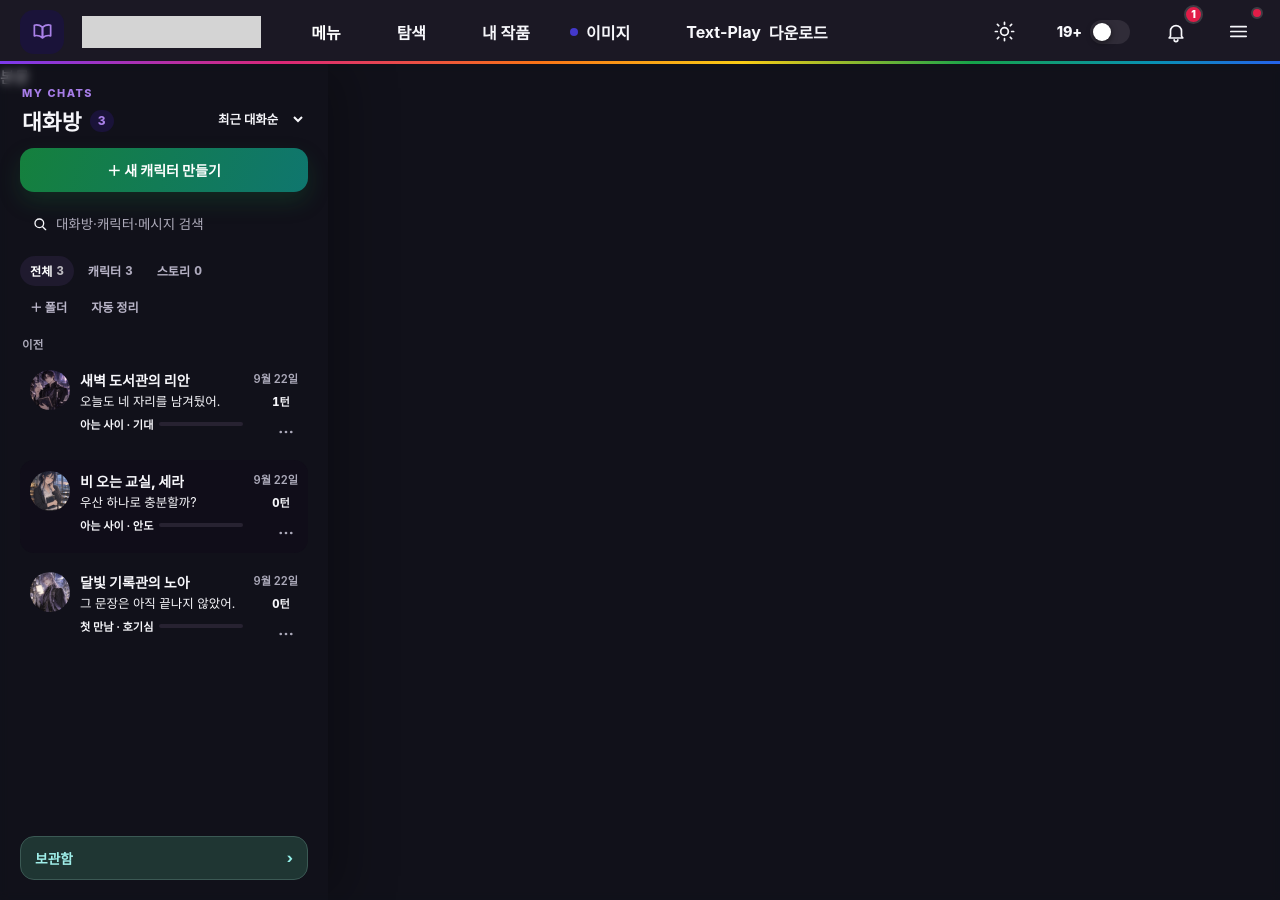
Test: 헤더 알림함 › 모두 읽음과 비우기를 지원하고 빈 알림함을 안내한다
What coordinates should you click on to do the following:
click the button named "알림함, 안 읽은 알림 1개"
I would click on:
 (1176, 32)
Its box is [1154,10,1198,54].
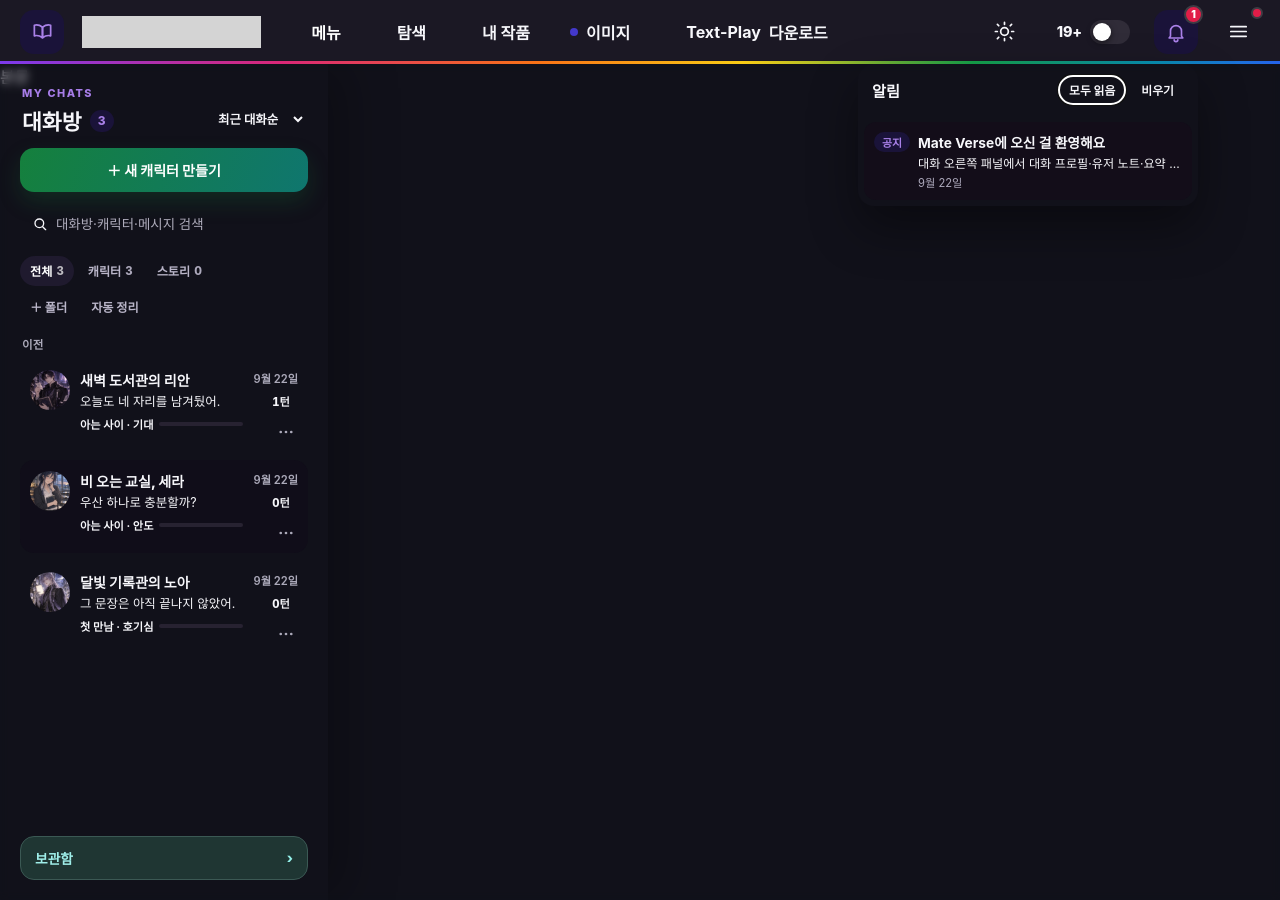
What coordinates should you click on to do the following:
click the button "모두 읽음"
I would click on:
 (1092, 90)
Its box is [1059,76,1125,104].
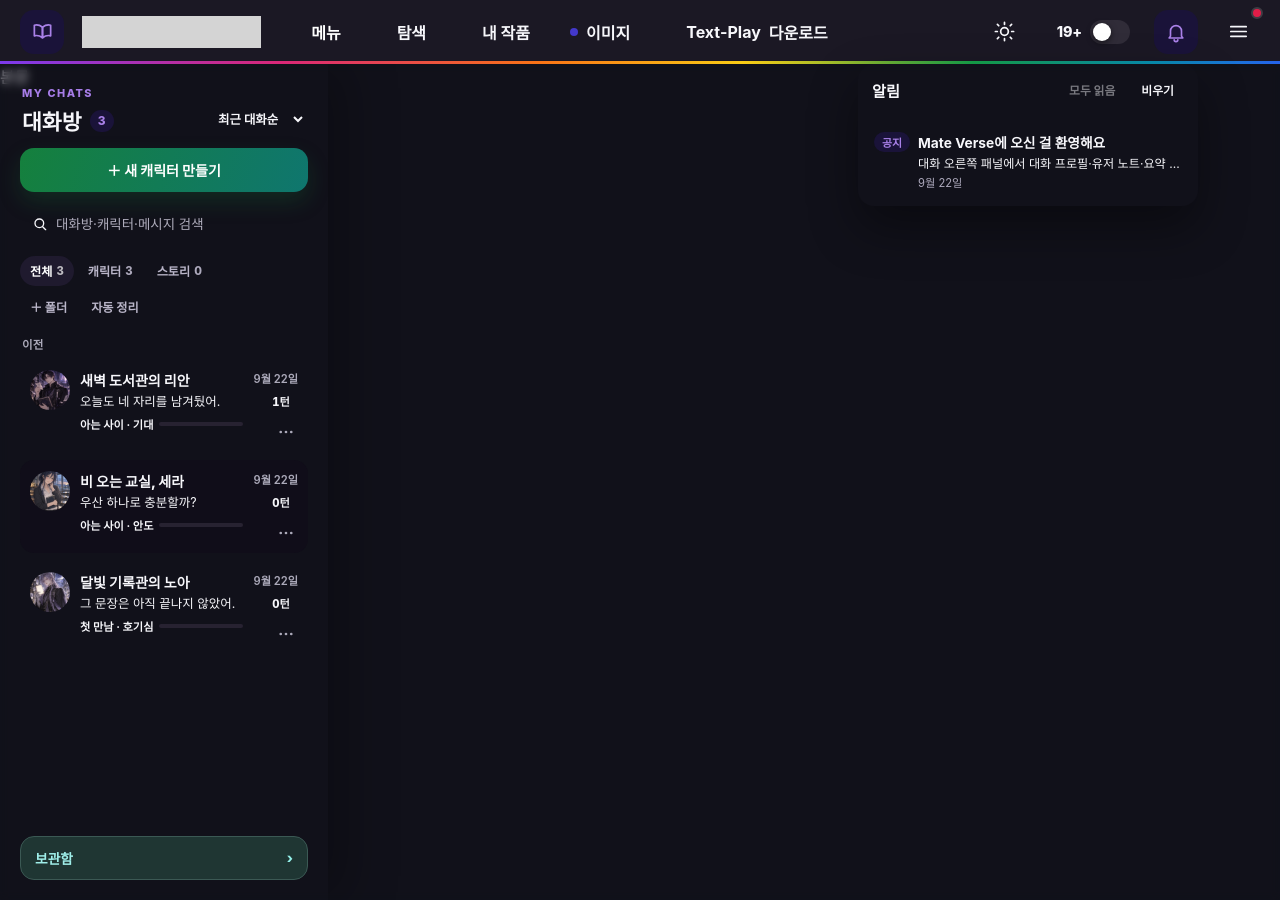
Expected: the button named "알림함" is shown, [1154,10,1198,54]
What coordinates should you click on to do the following:
click the button "비우기"
I would click on:
 (1158, 90)
Its box is [1131,76,1184,104].
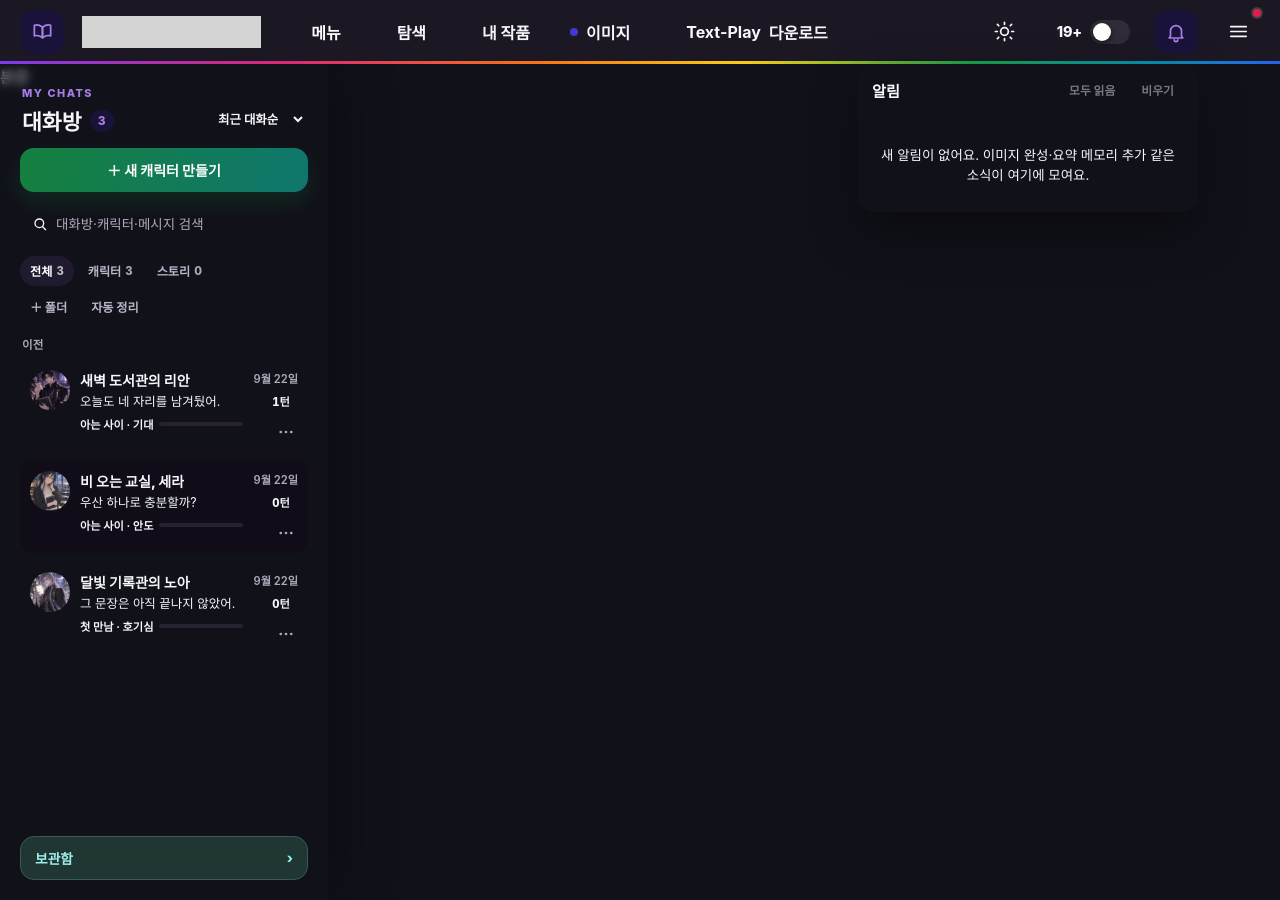
Result: the text "새 알림이 없어요. 이미지 완성·요약 메모리 추가 같은 소식이 여기에 모여요." is shown at [881,146,1175,182]
